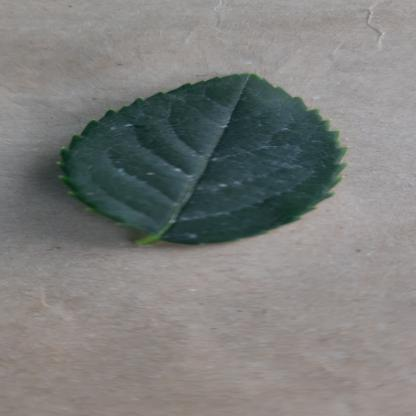normal: (47, 73, 350, 244)
